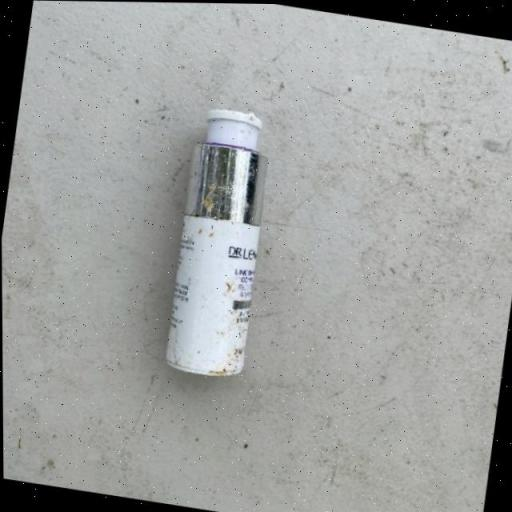plastic: (160, 101, 278, 380)
